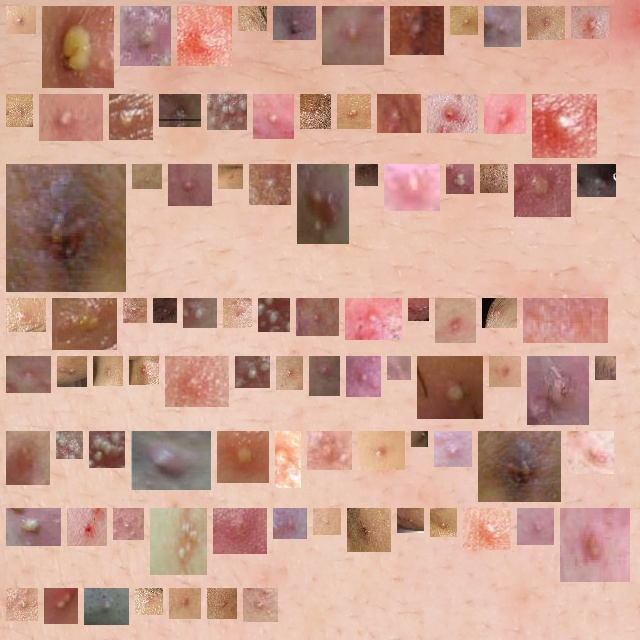pustule: (14, 172, 118, 284), (50, 14, 106, 80), (486, 439, 553, 494), (568, 516, 622, 574), (131, 439, 203, 482), (535, 364, 581, 417), (540, 102, 589, 150), (425, 364, 475, 411), (305, 172, 341, 236), (158, 516, 199, 567), (531, 306, 600, 335), (330, 14, 376, 57), (60, 306, 109, 342), (185, 14, 224, 58), (173, 364, 221, 399), (128, 14, 163, 58), (522, 172, 563, 209), (47, 102, 95, 133), (225, 439, 261, 475), (398, 14, 436, 47), (392, 172, 432, 203), (221, 516, 259, 546), (353, 306, 394, 332), (14, 439, 42, 477), (14, 516, 53, 538), (117, 102, 145, 132), (575, 439, 606, 466), (471, 516, 503, 542), (435, 102, 470, 125), (355, 516, 383, 544), (176, 172, 204, 198), (257, 172, 283, 200), (261, 102, 286, 131), (443, 306, 468, 335), (366, 439, 397, 462), (276, 439, 293, 480), (315, 439, 344, 462), (385, 102, 413, 125), (492, 102, 518, 126), (14, 364, 43, 385), (92, 596, 121, 617), (304, 306, 331, 328), (75, 516, 99, 538), (492, 14, 513, 39), (281, 14, 308, 32), (215, 102, 239, 122), (354, 364, 373, 389), (167, 102, 193, 119), (525, 516, 546, 537), (442, 439, 464, 459), (14, 306, 38, 324), (97, 439, 117, 460), (535, 14, 557, 32), (585, 172, 608, 189), (579, 14, 601, 31), (317, 364, 332, 388), (52, 596, 70, 616), (345, 102, 363, 121), (251, 596, 270, 614), (243, 364, 262, 380), (266, 306, 282, 324), (308, 102, 323, 121), (14, 596, 30, 613), (281, 516, 299, 531), (490, 306, 509, 320), (191, 306, 209, 320), (497, 364, 513, 379), (121, 516, 136, 532), (177, 596, 193, 611), (65, 364, 79, 379), (215, 596, 229, 611), (284, 364, 295, 382), (101, 364, 115, 378), (14, 102, 25, 119), (231, 306, 244, 320), (137, 364, 151, 377), (14, 14, 28, 26), (454, 172, 466, 186), (458, 14, 470, 27), (488, 172, 500, 185), (438, 516, 449, 529), (64, 439, 75, 451), (321, 516, 333, 527), (143, 596, 155, 607), (140, 172, 154, 181), (246, 14, 259, 23), (405, 516, 416, 525), (226, 172, 235, 181), (131, 306, 139, 315), (161, 306, 169, 315), (395, 364, 403, 372), (363, 172, 370, 178), (603, 364, 608, 372), (416, 306, 421, 313)
